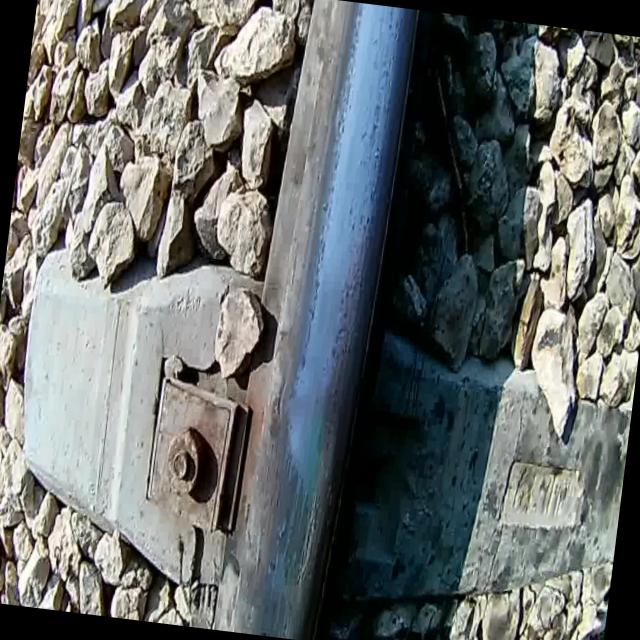Squats: (236, 407, 326, 640)
